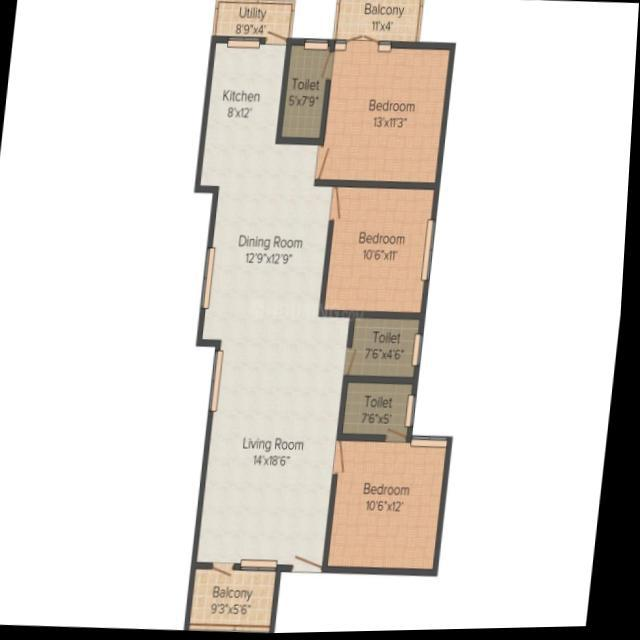Balcony-Sitout: (190, 564, 290, 635), (333, 0, 423, 47)
Bedroom: (317, 42, 455, 192), (321, 181, 441, 321)
Bedroom with Toilet: (330, 379, 455, 573)
Dining: (216, 215, 324, 302)
Kitchen: (193, 39, 290, 191)
Living: (196, 345, 350, 574)
Toilet: (274, 37, 336, 148), (340, 373, 424, 445), (345, 315, 431, 384)
Utility: (211, 0, 295, 39)
